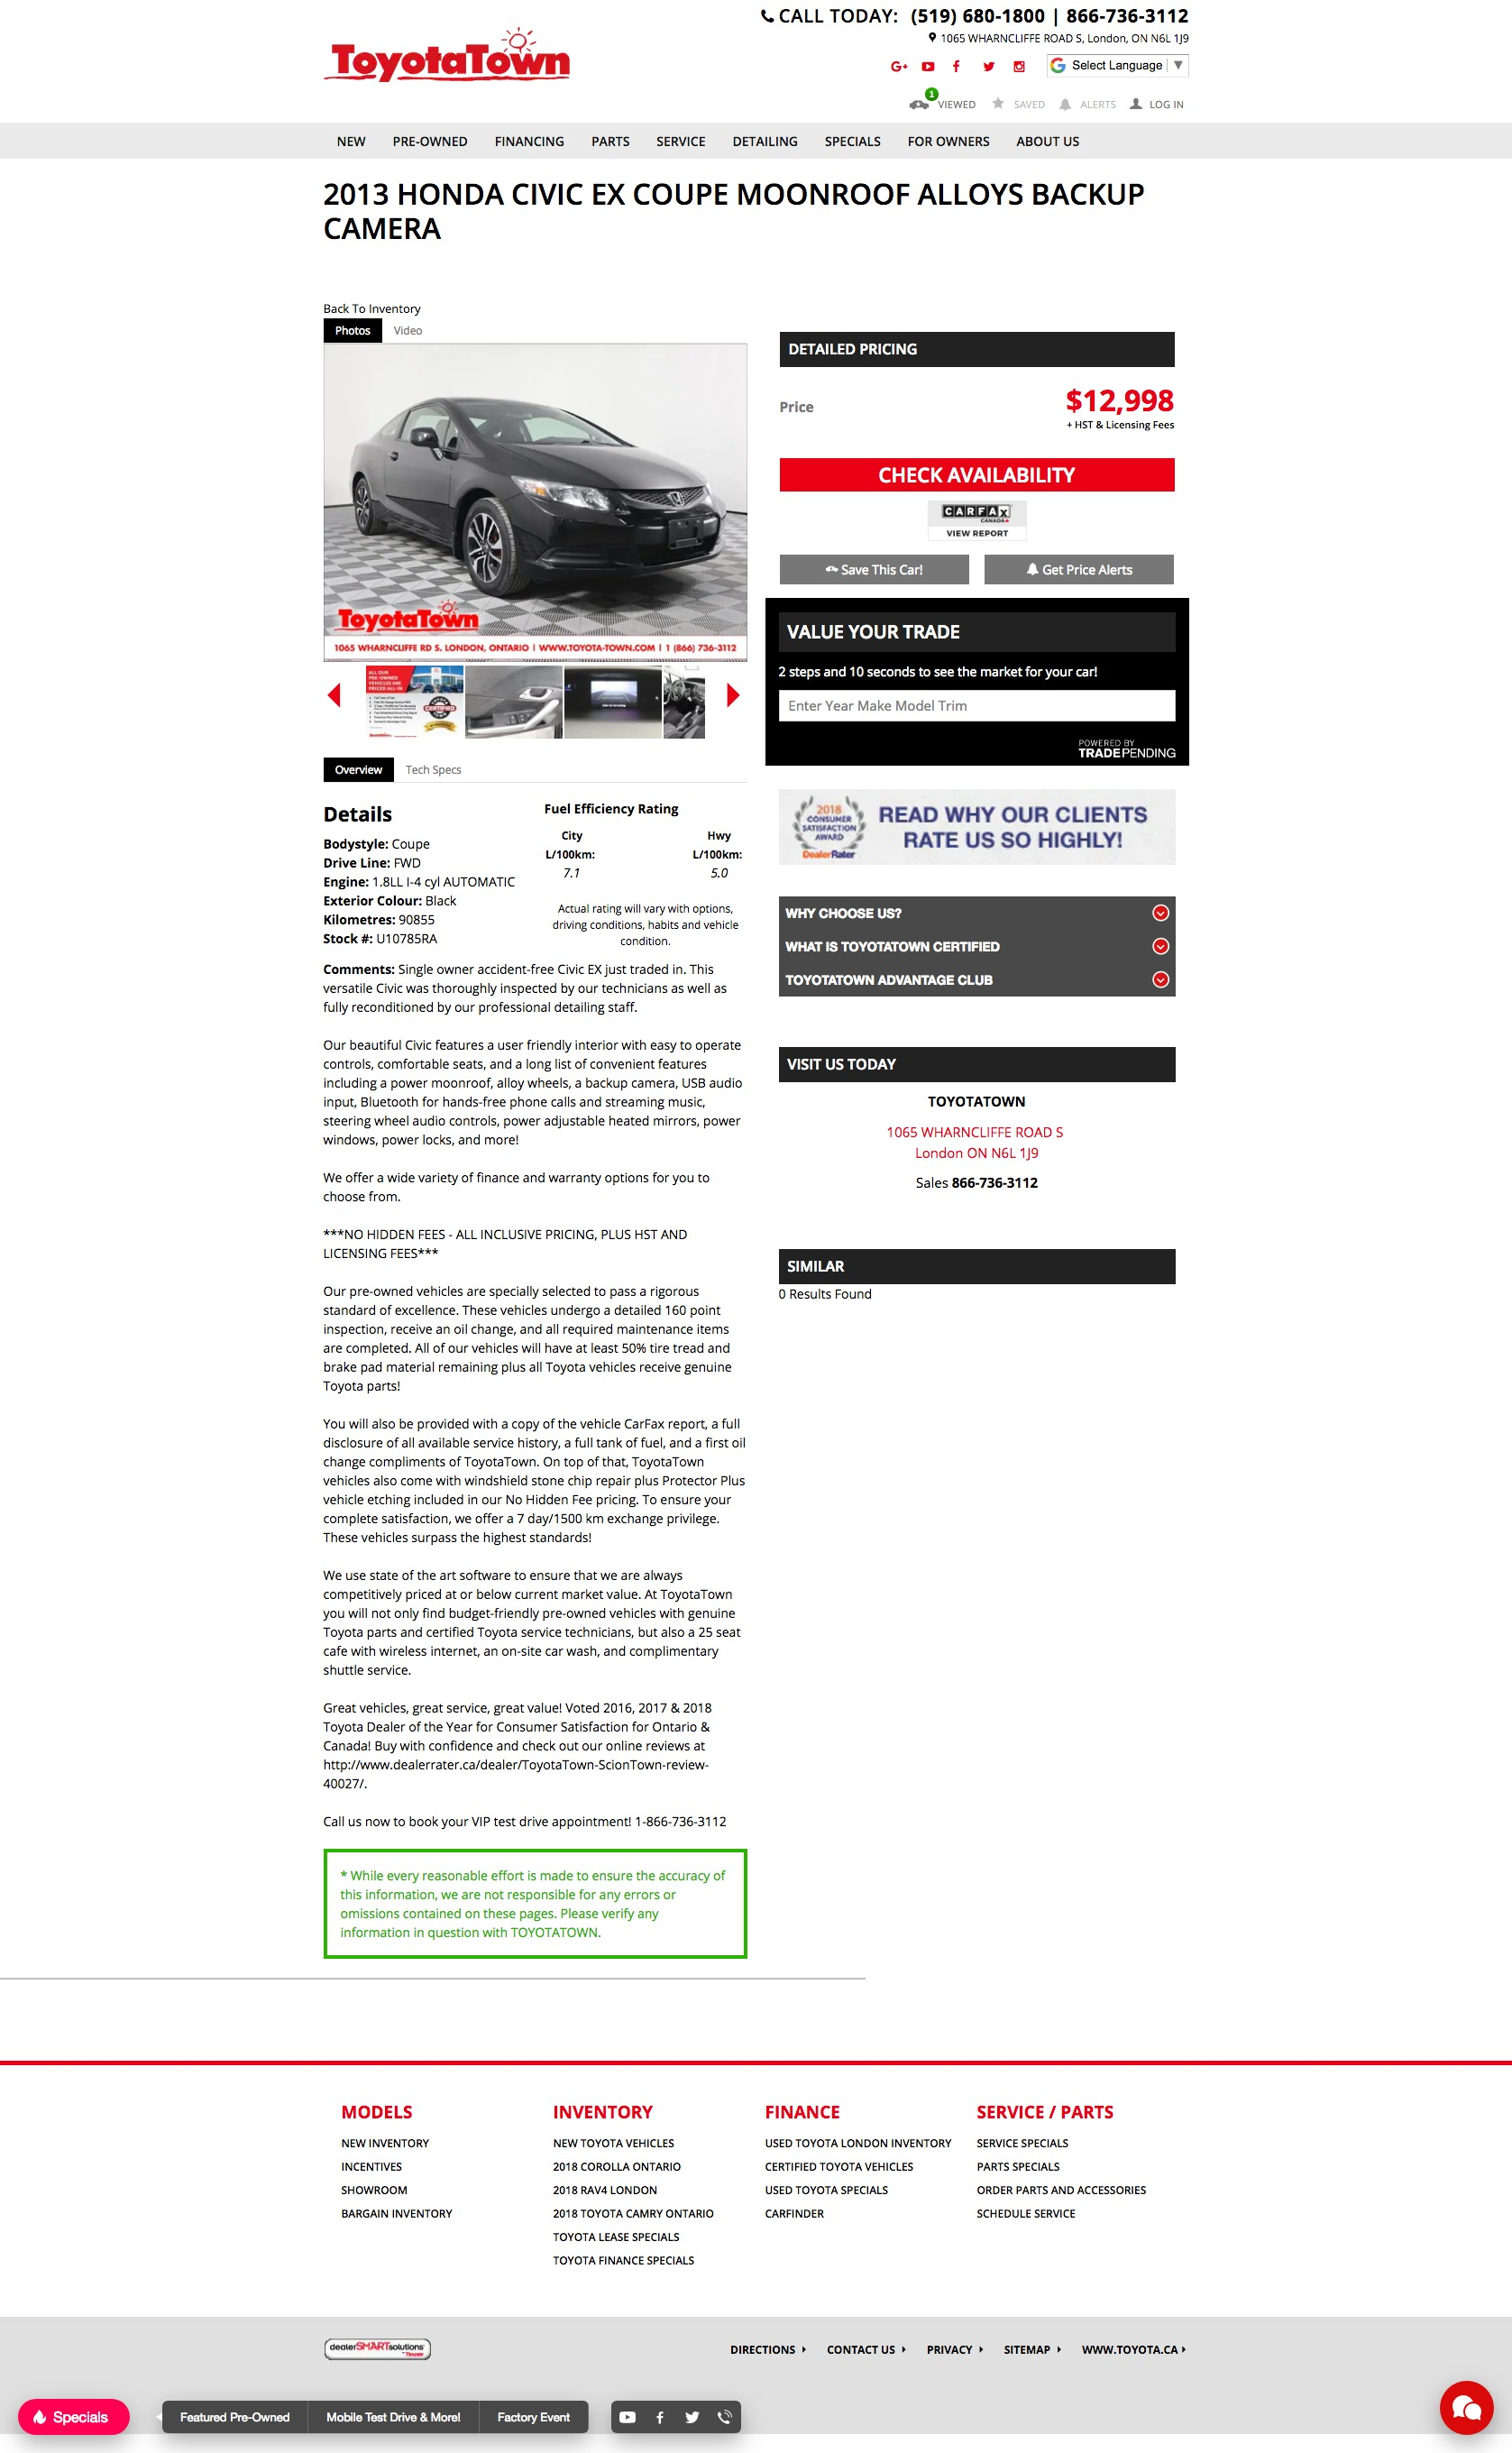car: (727, 682, 741, 710)
